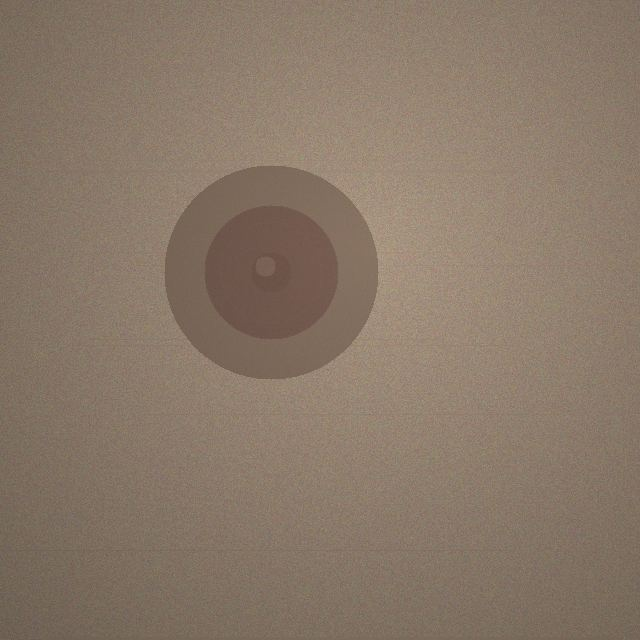good: (164, 165, 378, 379)
